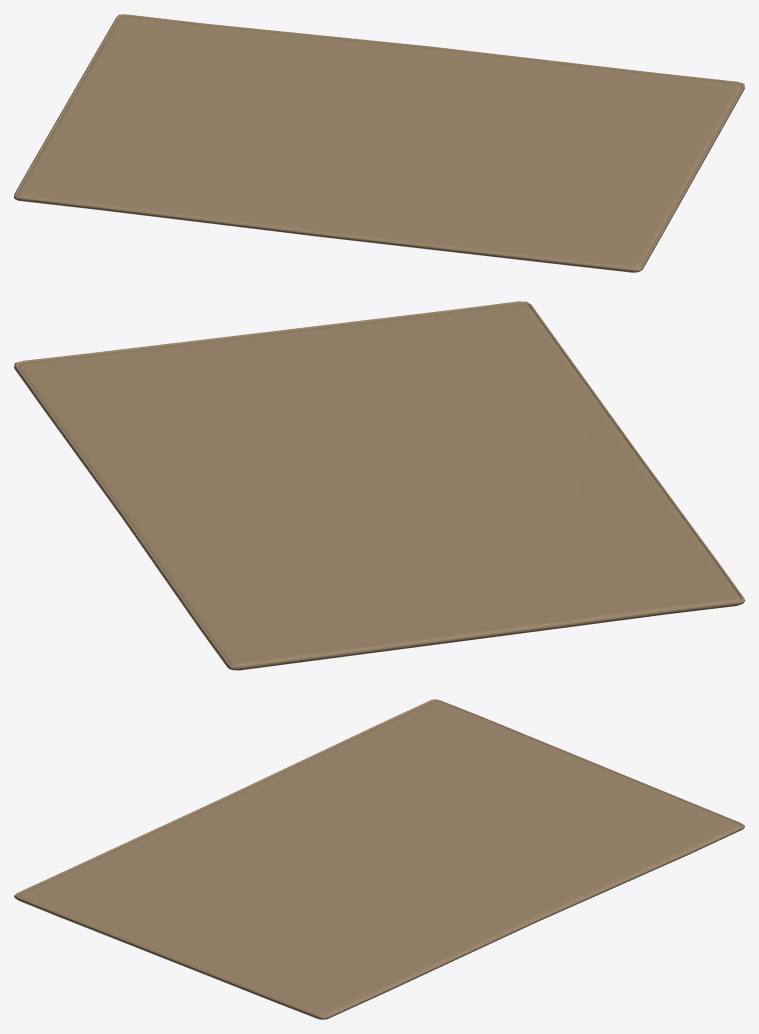
Rendered from basement_rug_high.fbx.
The picture shows the model from 3 angles, top to bottom: view 1: azimuth 30°, elevation 25°; view 2: azimuth 150°, elevation 25°; view 3: azimuth 270°, elevation 25°; orthographic projection. The views are drawn at different scales.
Visible parts, largest first — view 1: basement_rug:rug; view 2: basement_rug:rug; view 3: basement_rug:rug.
Boxes of the visible parts, box(x1,y1,x2,y2) form: basement_rug:rug: box(14, 14, 744, 272); basement_rug:rug: box(14, 301, 744, 670); basement_rug:rug: box(14, 699, 744, 1019).
Size of the model in its own units: 300 by 6.13 by 297.
